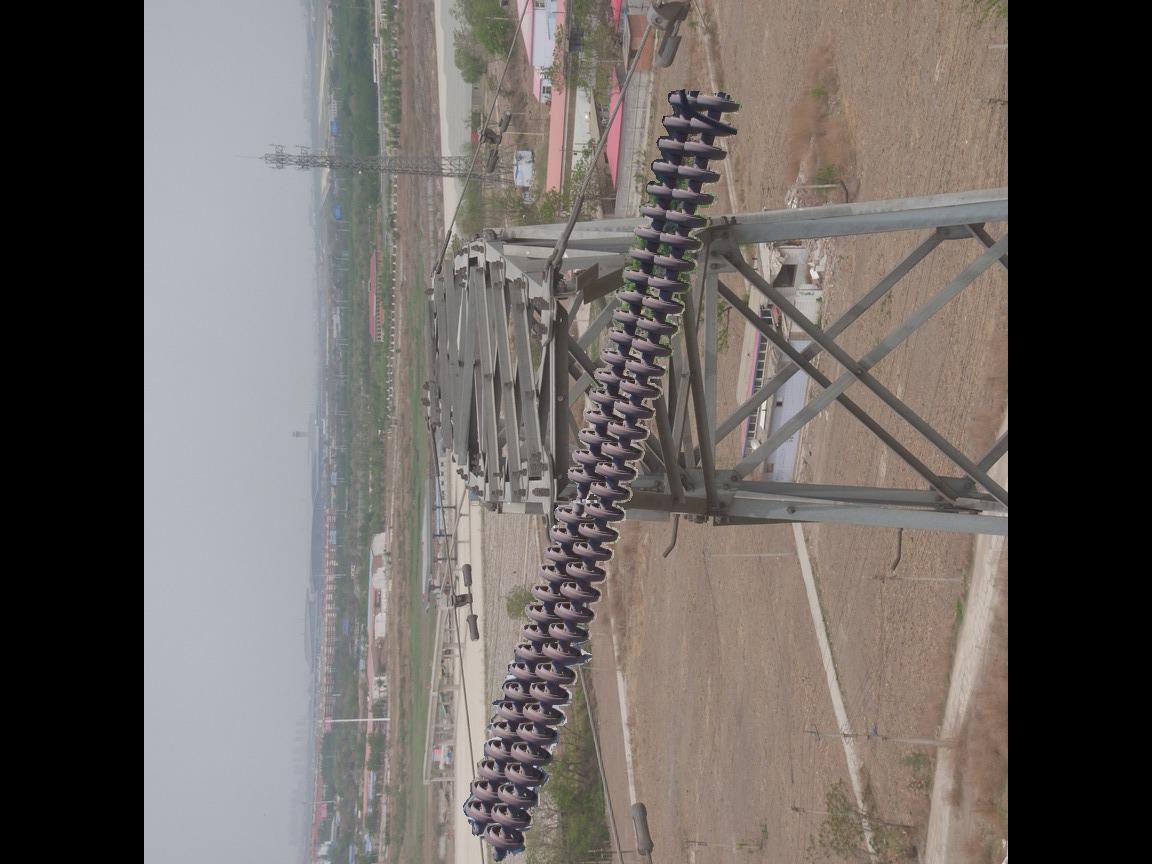insulator: (457, 85, 744, 856)
insulator_stringdrop: (549, 464, 601, 529)
